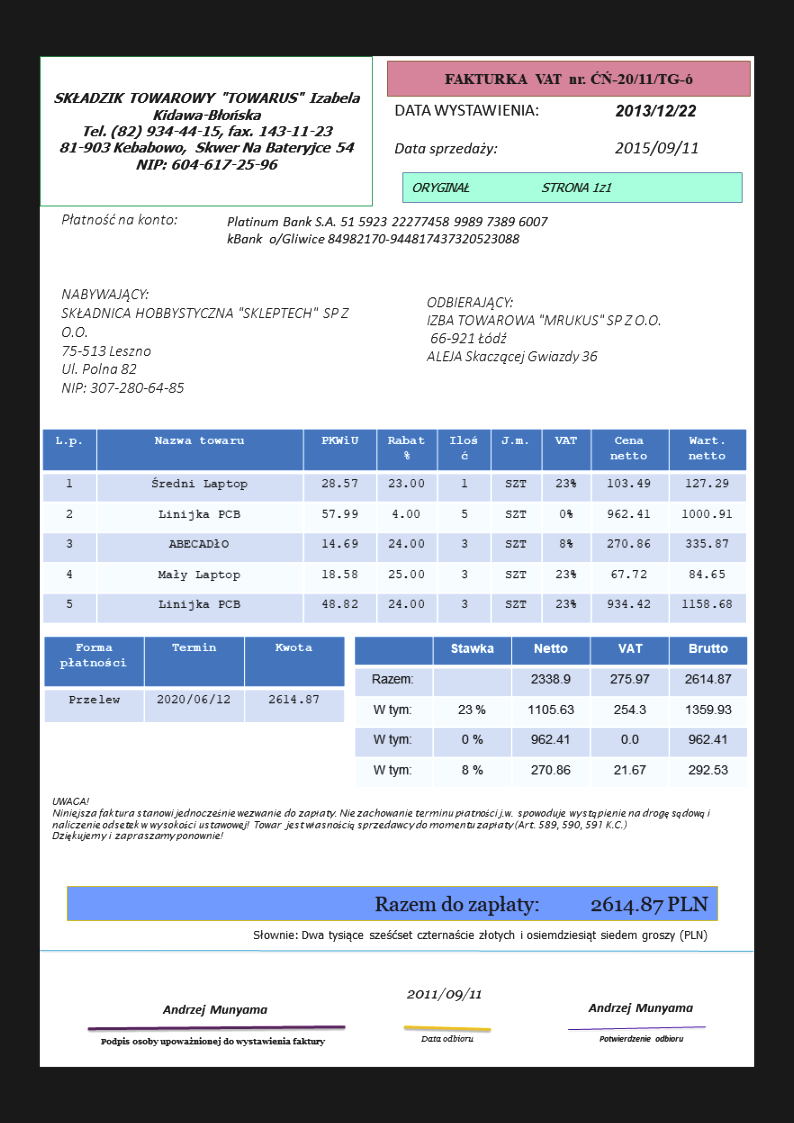Table: (41, 428, 748, 625), (352, 633, 750, 791), (42, 635, 347, 724)
TextBox: (58, 283, 353, 397), (50, 793, 716, 843), (51, 87, 366, 175), (424, 292, 662, 368), (223, 213, 550, 249), (250, 925, 709, 947), (373, 890, 710, 918), (440, 68, 694, 89), (410, 176, 614, 197), (391, 98, 538, 121), (97, 1034, 327, 1048), (392, 137, 500, 159), (59, 209, 178, 228), (612, 136, 700, 159), (158, 1001, 273, 1018), (586, 1000, 695, 1017), (612, 100, 698, 121), (402, 984, 483, 1003), (596, 1032, 684, 1045), (418, 1031, 476, 1047)
